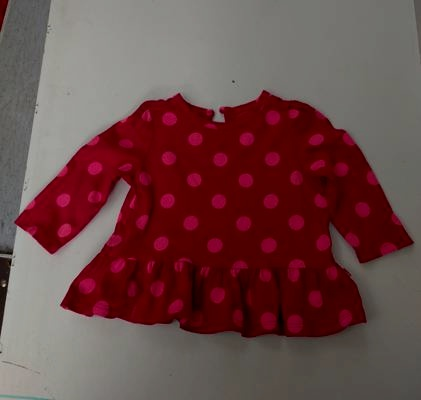Dress: (11, 67, 397, 328)
